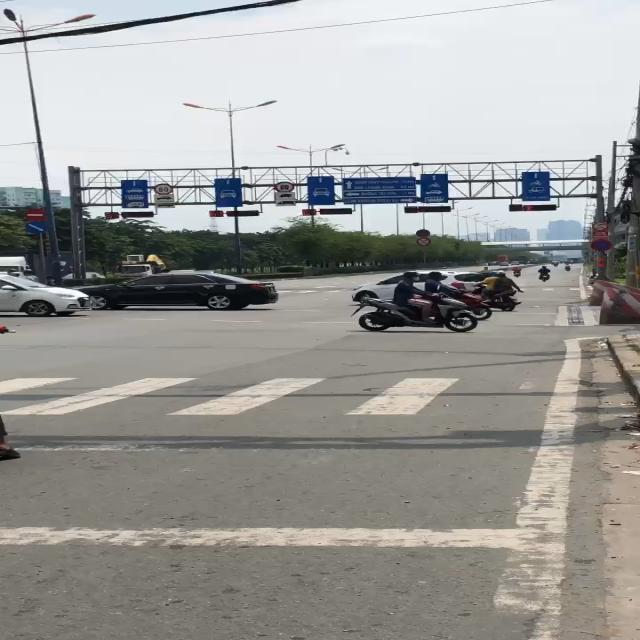Bien bao cam di nguoc chieu: (22, 207, 49, 221)
Bien bao huong phai di vong chuong ngai vat: (24, 221, 48, 234)
Bien bao toc do toi da cho phep: (276, 181, 300, 193), (151, 183, 173, 194)
